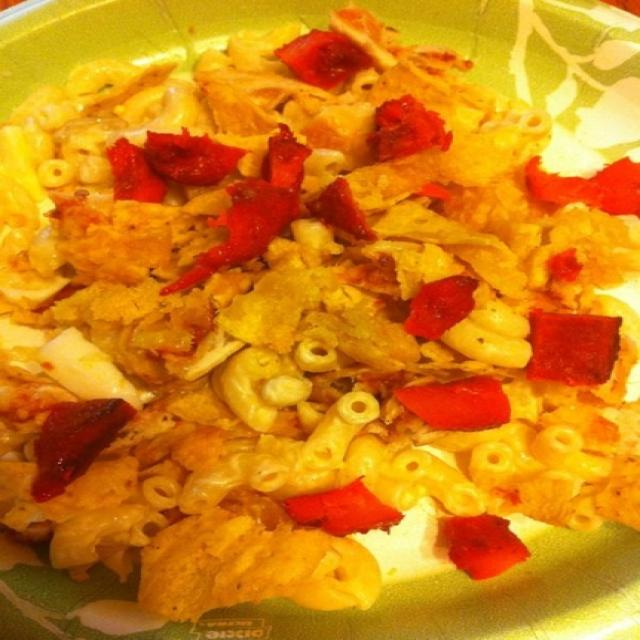面包点心: (13, 42, 615, 621)
